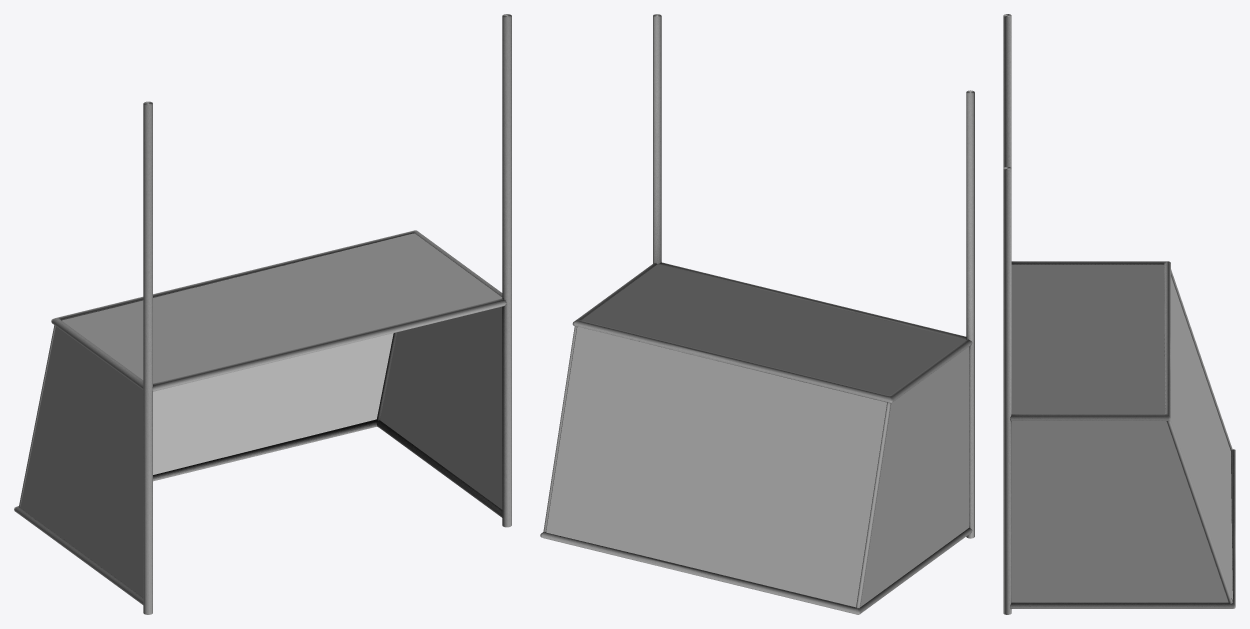
The model's file is goal.obj.
The picture shows the model from 3 angles, left to right: view 1: azimuth 30°, elevation 25°; view 2: azimuth 150°, elevation 25°; view 3: azimuth 270°, elevation 25°; orthographic projection. The views are drawn at different scales.
Parts seen in each view (by area): view 1: 3DSMesh_7_7, 3DSMesh_5_5, 3DSMesh_8_8, 3DSMesh_6_6; view 2: 3DSMesh_6_6, 3DSMesh_5_5, 3DSMesh_7_7, 3DSMesh_8_8; view 3: 3DSMesh_7_7, 3DSMesh_5_5, 3DSMesh_8_8, 3DSMesh_6_6.
Boxes of the visible parts, <box> form: 3DSMesh_7_7: <box>20,306,502,597</box>; 3DSMesh_5_5: <box>62,233,502,383</box>; 3DSMesh_8_8: <box>14,14,511,614</box>; 3DSMesh_6_6: <box>153,333,393,474</box>; 3DSMesh_6_6: <box>546,326,886,607</box>; 3DSMesh_5_5: <box>581,264,965,395</box>; 3DSMesh_7_7: <box>860,347,968,606</box>; 3DSMesh_8_8: <box>540,14,974,614</box>; 3DSMesh_7_7: <box>1011,421,1228,602</box>; 3DSMesh_5_5: <box>1011,264,1165,414</box>; 3DSMesh_8_8: <box>1003,14,1235,614</box>; 3DSMesh_6_6: <box>1170,276,1232,600</box>.
Size of the model in its own units: 1.01 by 1.34 by 0.6352.
Materials: 2 (1 with a texture image).
